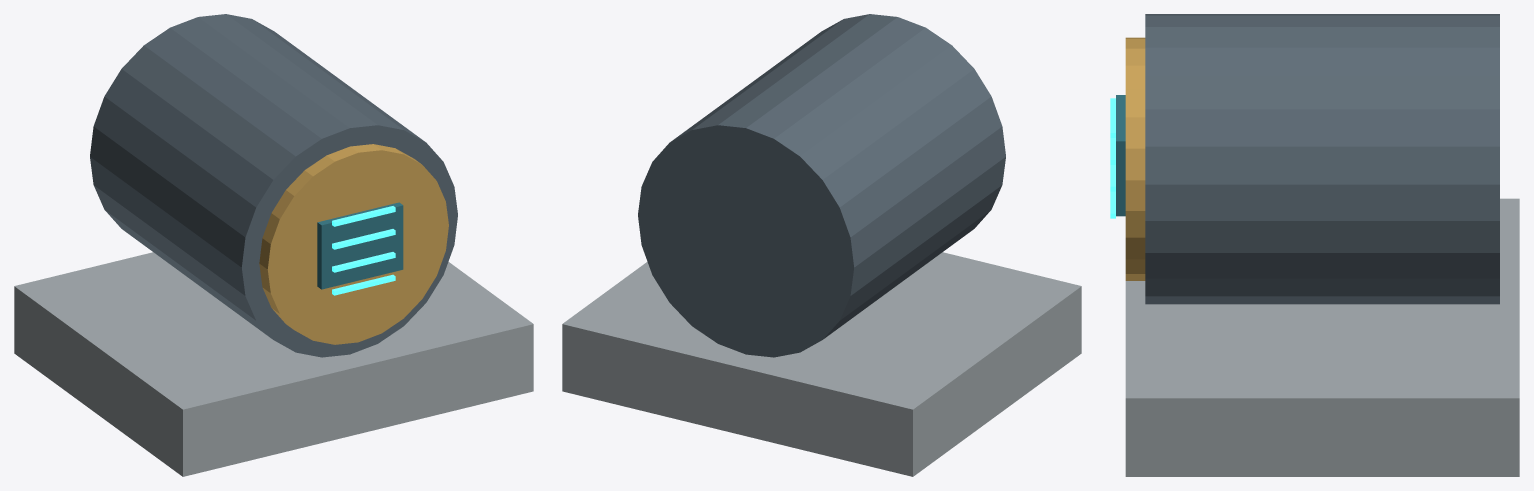
The model's file is generator.glb.
3 renders of one model, left to right at view 1: azimuth 30°, elevation 25°; view 2: azimuth 150°, elevation 25°; view 3: azimuth 270°, elevation 25°, orthographic. The views are drawn at different scales.
Parts seen in each view (by area): view 1: generator skid, turbine housing, turbine end, glowing status panel; view 2: turbine housing, generator skid; view 3: turbine housing, generator skid, turbine end, glowing status panel.
Part boxes in pixels (box(x1,y1,x2,y2)): generator skid: box(14, 252, 533, 476); turbine housing: box(90, 14, 457, 357); turbine end: box(259, 144, 448, 344); glowing status panel: box(317, 202, 403, 289); turbine housing: box(638, 14, 1005, 357); generator skid: box(562, 252, 1081, 476); turbine housing: box(1145, 14, 1499, 304); generator skid: box(1125, 198, 1519, 476); turbine end: box(1125, 37, 1145, 280); glowing status panel: box(1116, 95, 1125, 216).
Bounding box in the file's own units: 1.2 × 0.98 × 1.04.
